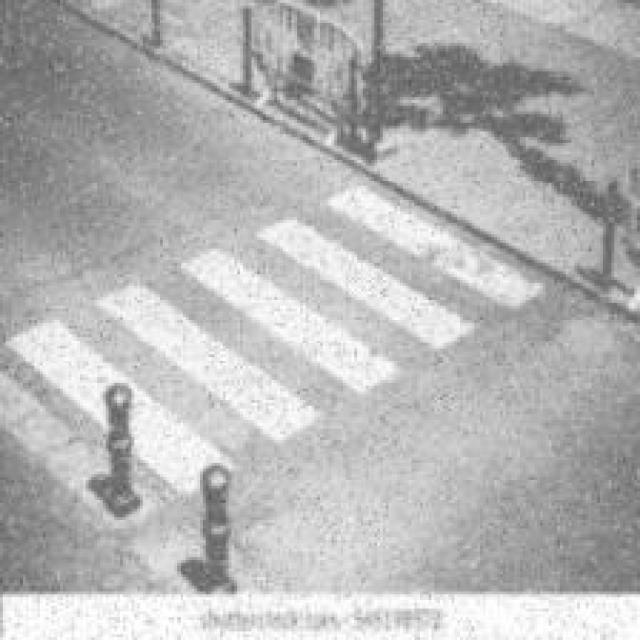walk-crossing: (0, 184, 580, 530)
